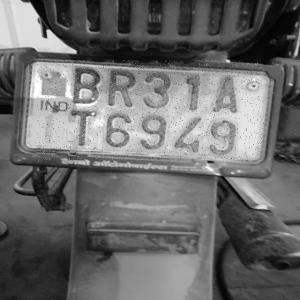Plate: (37, 60, 263, 162)
